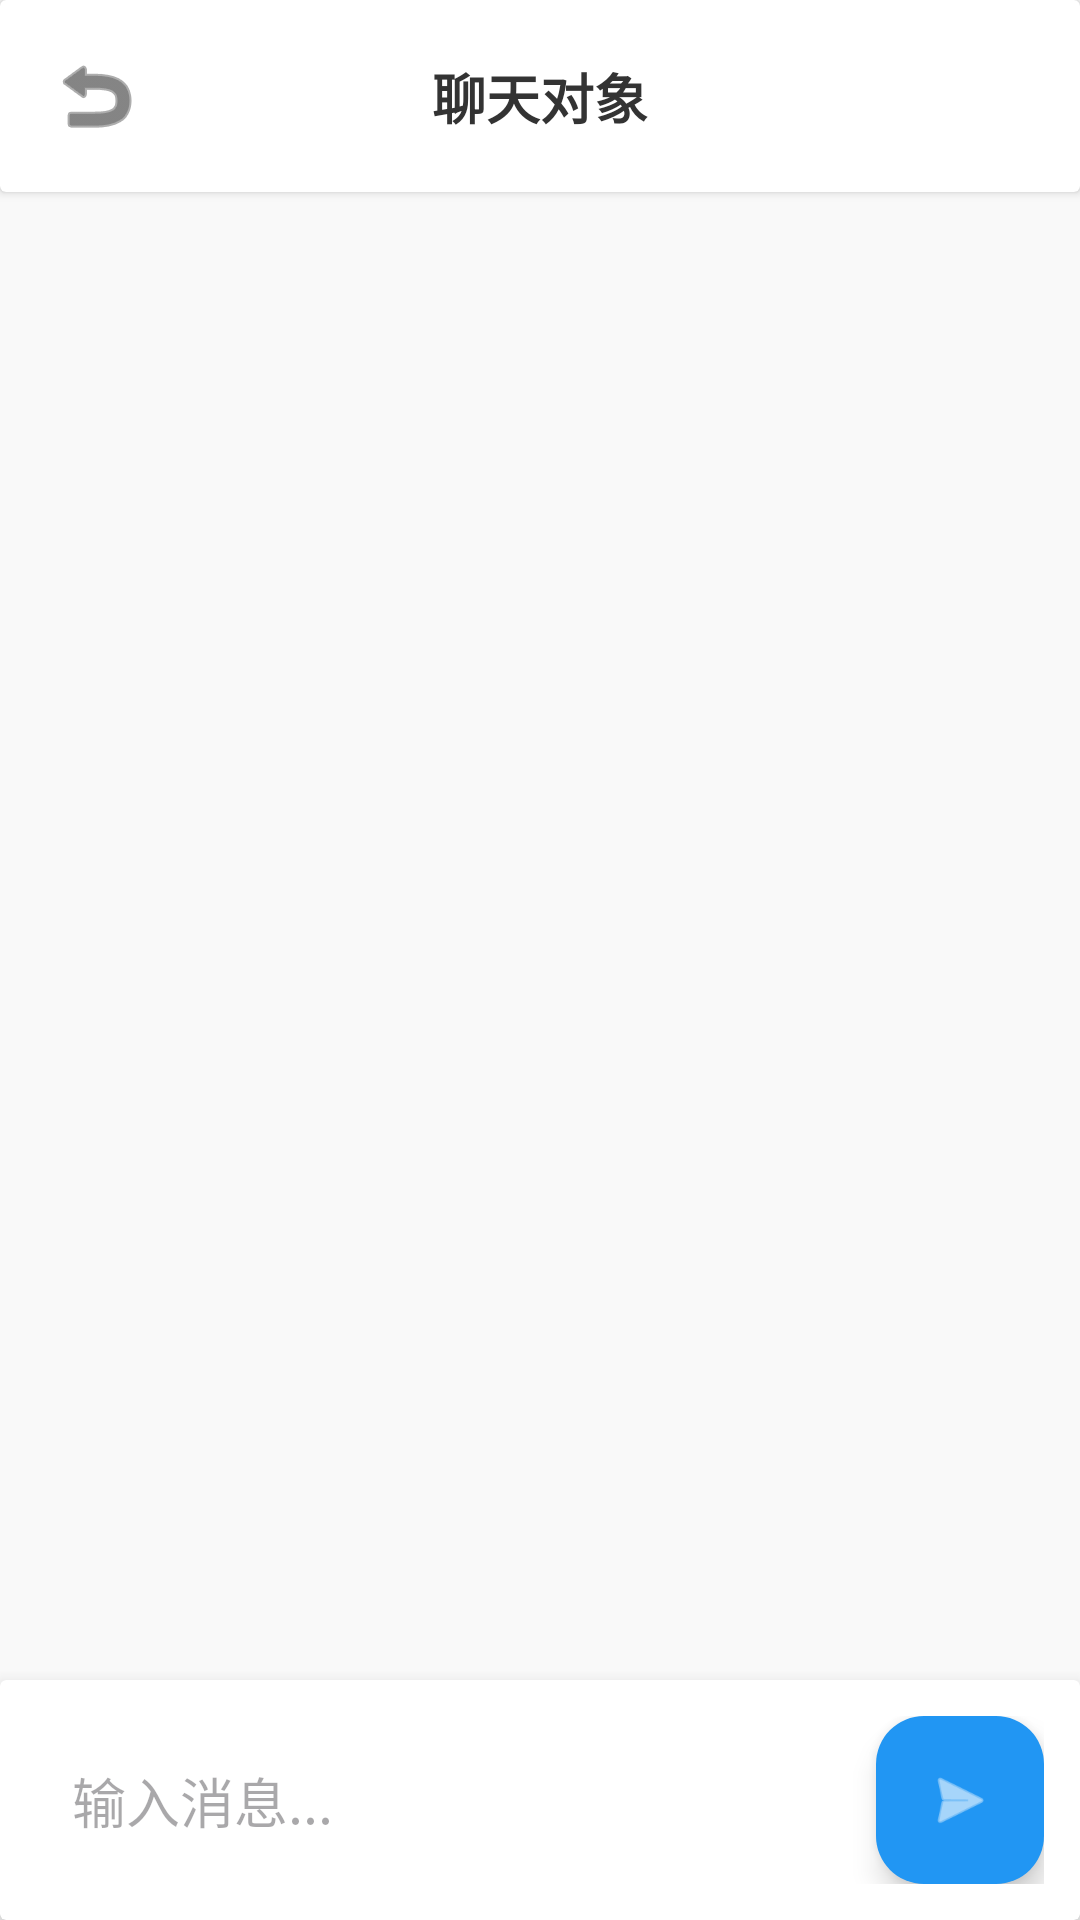

Locate icon controls on the screen. Image size 1080×1920, boxes as (x1, y1, x2, y2).
revert: (63, 65, 132, 128)
发送: (876, 1716, 1044, 1884)
